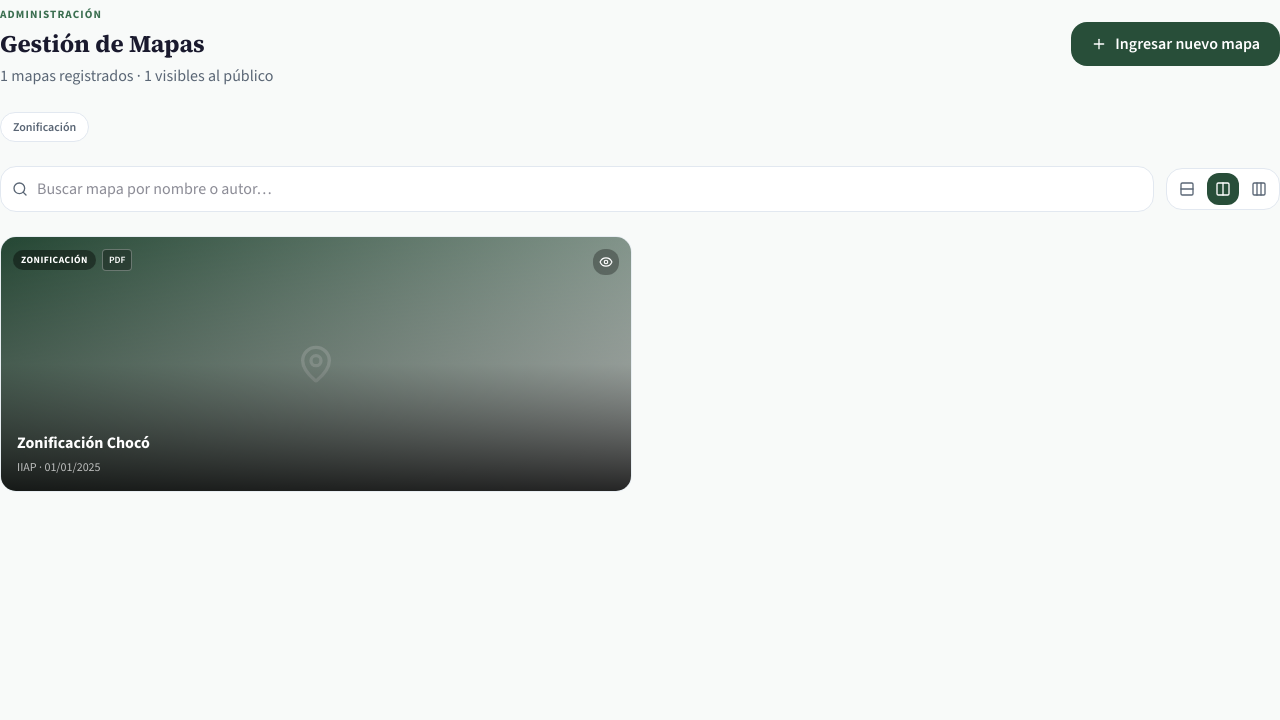
Scenario: GestionMapas — metadatos técnicos al editar › abiertos automáticamente si el mapa ya tiene algún metadato
Step 1. Click the button with aria-label "Zonificación Chocó, Zonificación. Clic para ver detalles" → (316, 364), box [0,236,632,492]
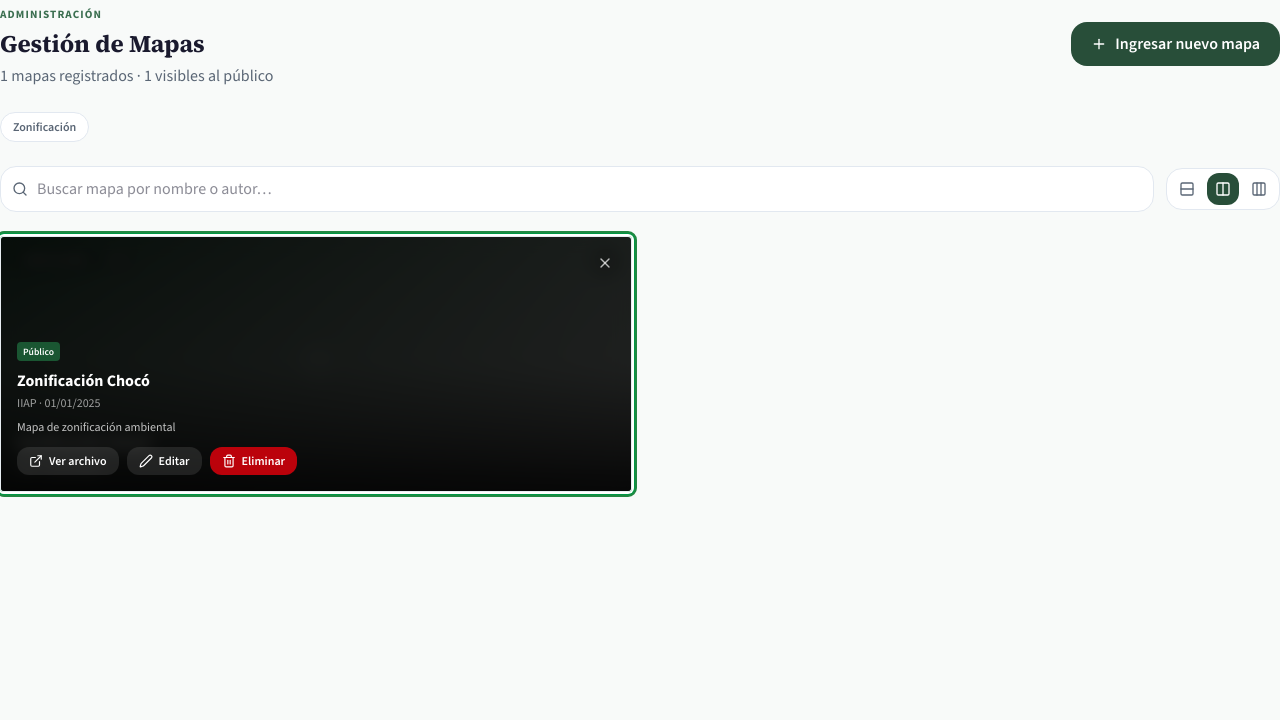
Step 2. Click the button "Editar" → (164, 461), box [127,447,202,475]
(page scrolled)
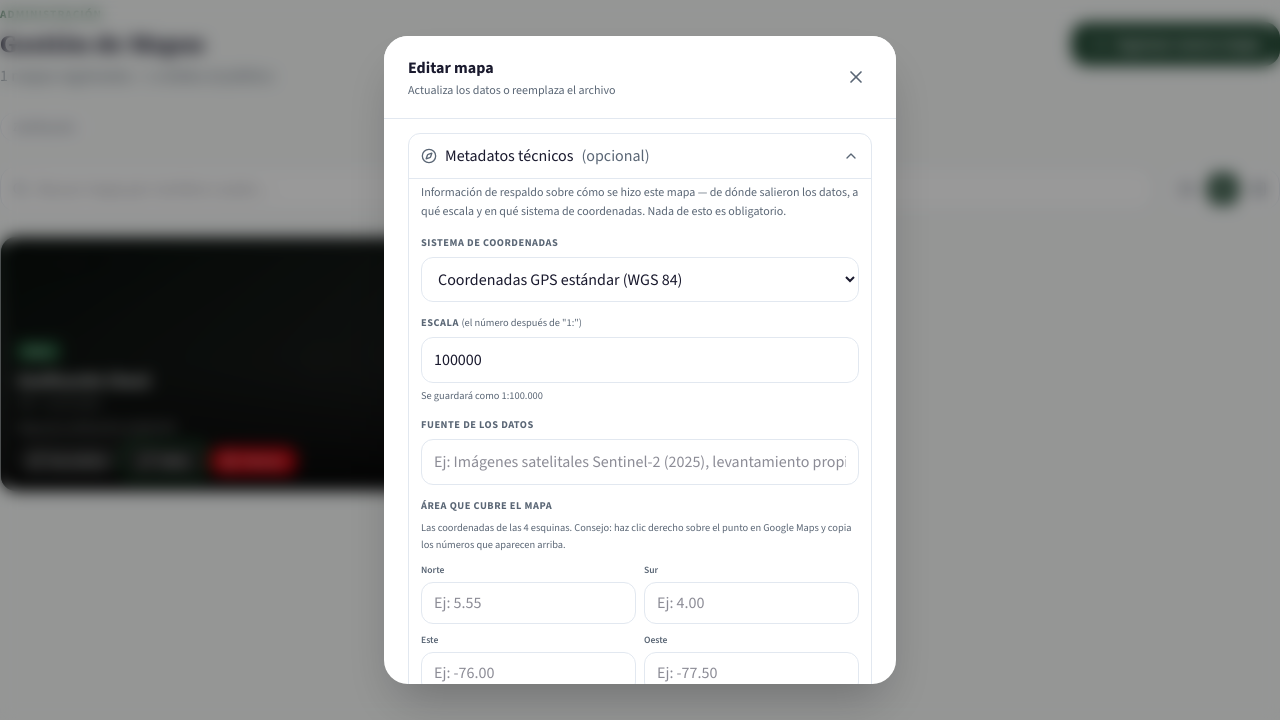
Result: the dropdown labelled "Sistema de coordenadas" shows "Coordenadas GPS estándar (WGS 84)" at [421,257,859,302]
Result: the number field labelled "Escala (el número después de \"1:\")" holds "100000" at [421,337,859,383]
